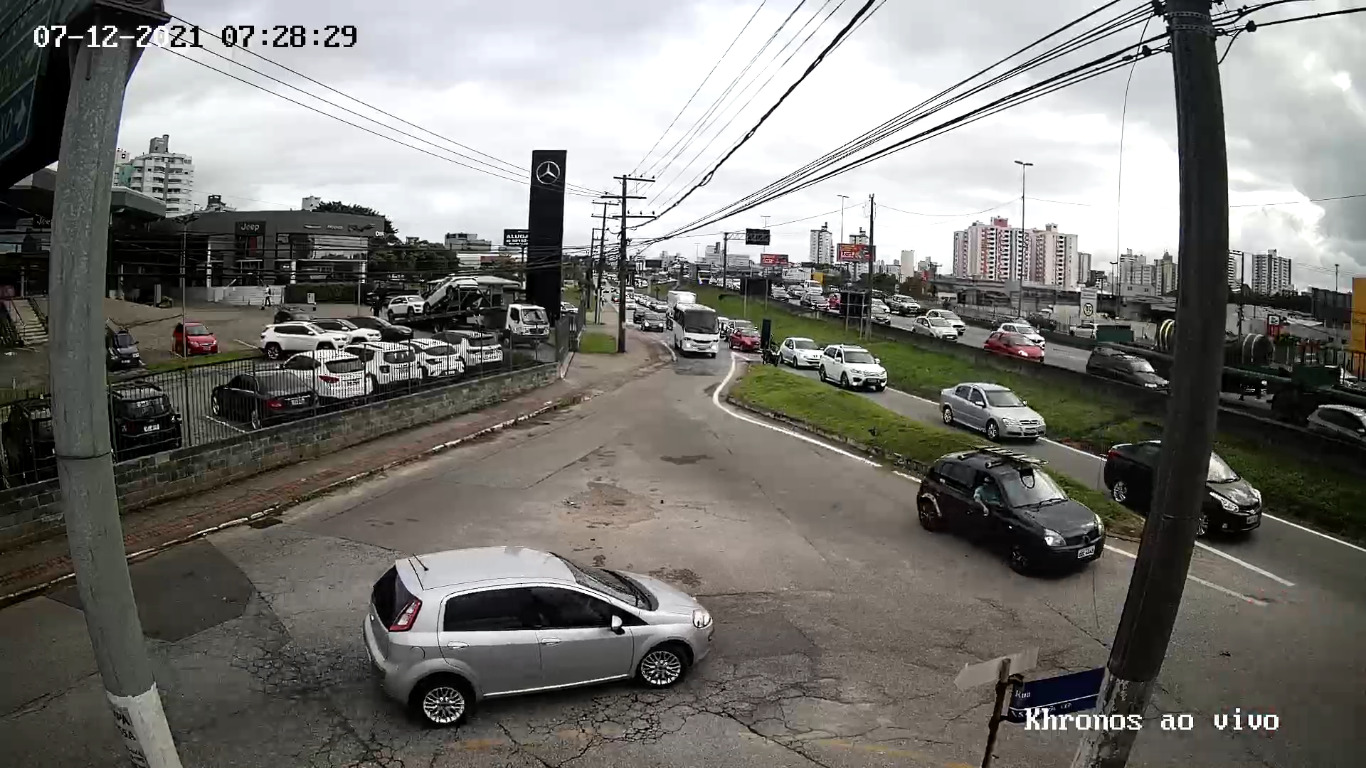car: (363, 545, 713, 729), (916, 446, 1104, 576)
